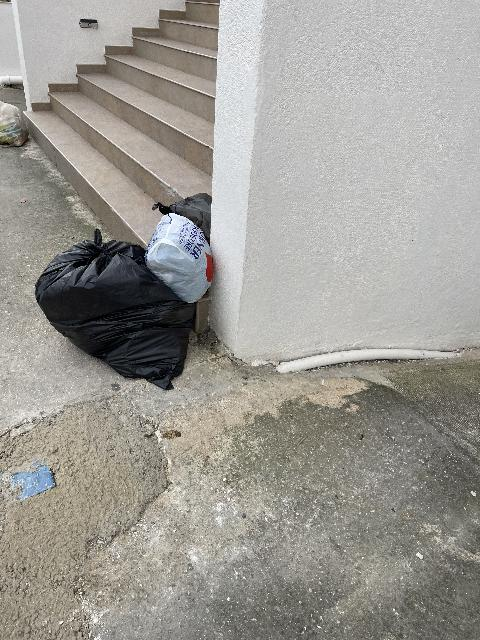Mixed -Black-: (35, 229, 195, 390)
Organic -White-: (0, 101, 29, 147)
Other: (145, 213, 212, 303)
